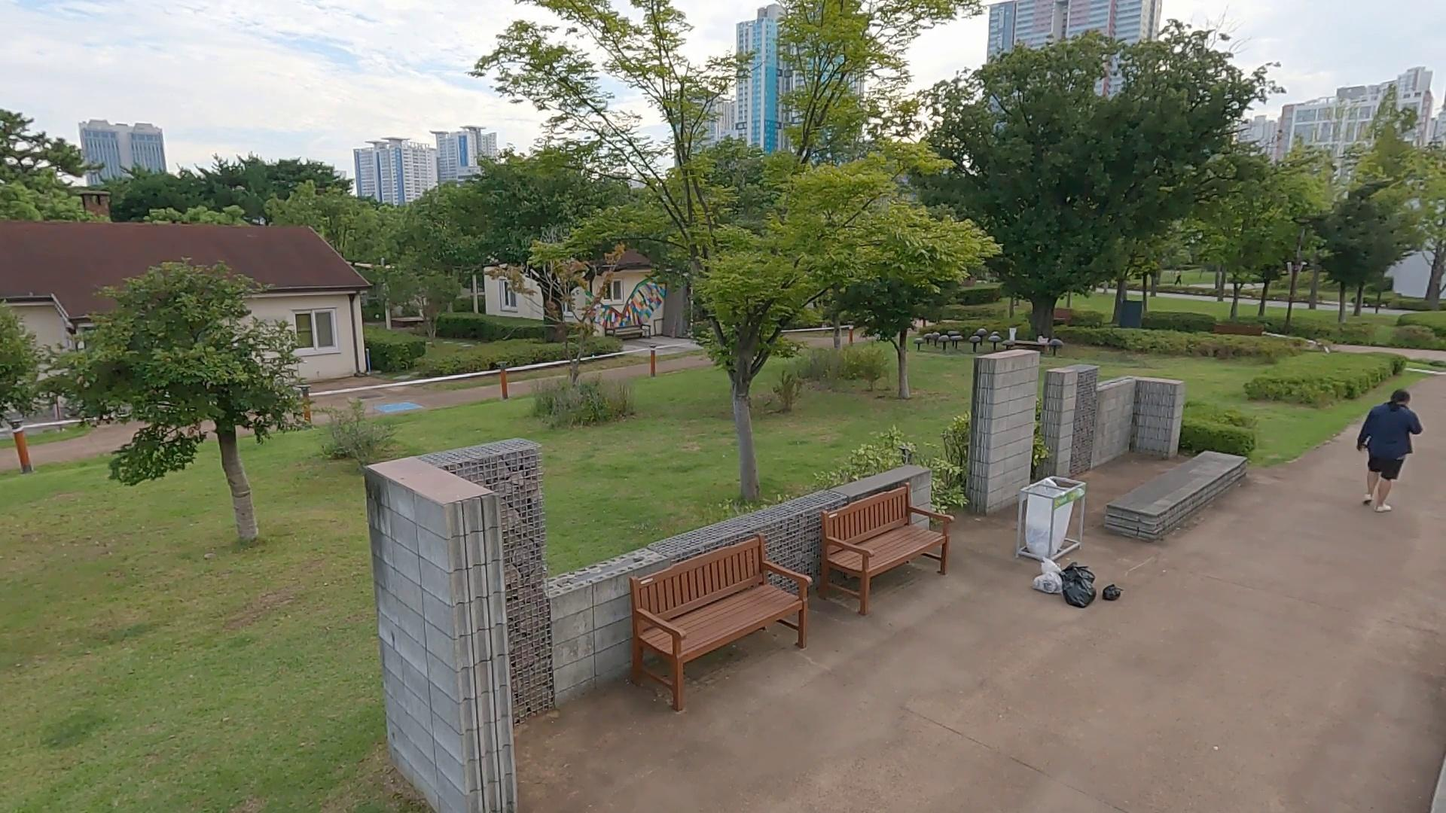person: (1355, 384, 1424, 515)
trash: (1030, 556, 1063, 596), (1062, 577, 1096, 606), (1060, 560, 1095, 587), (1101, 583, 1124, 601)
